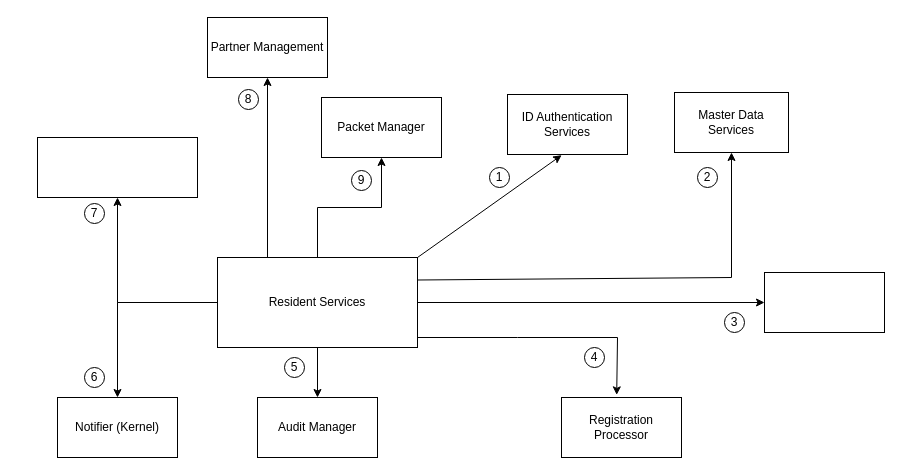
Some shapes in this 902 by 475 pixel diagram are drawn without their labels. The centre of each missing label's shape, as x and y in pixels:
"Credential Service" belongs at (117,167).
"ID Repository" belongs at (824,302).
